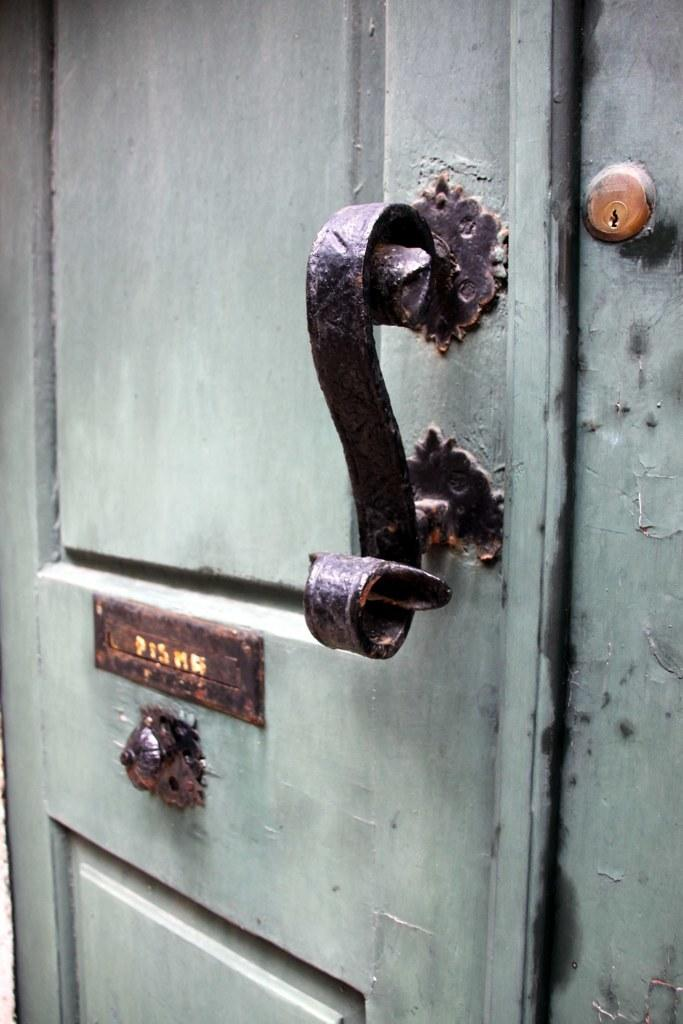handle: (286, 192, 462, 750), (132, 718, 180, 791)
